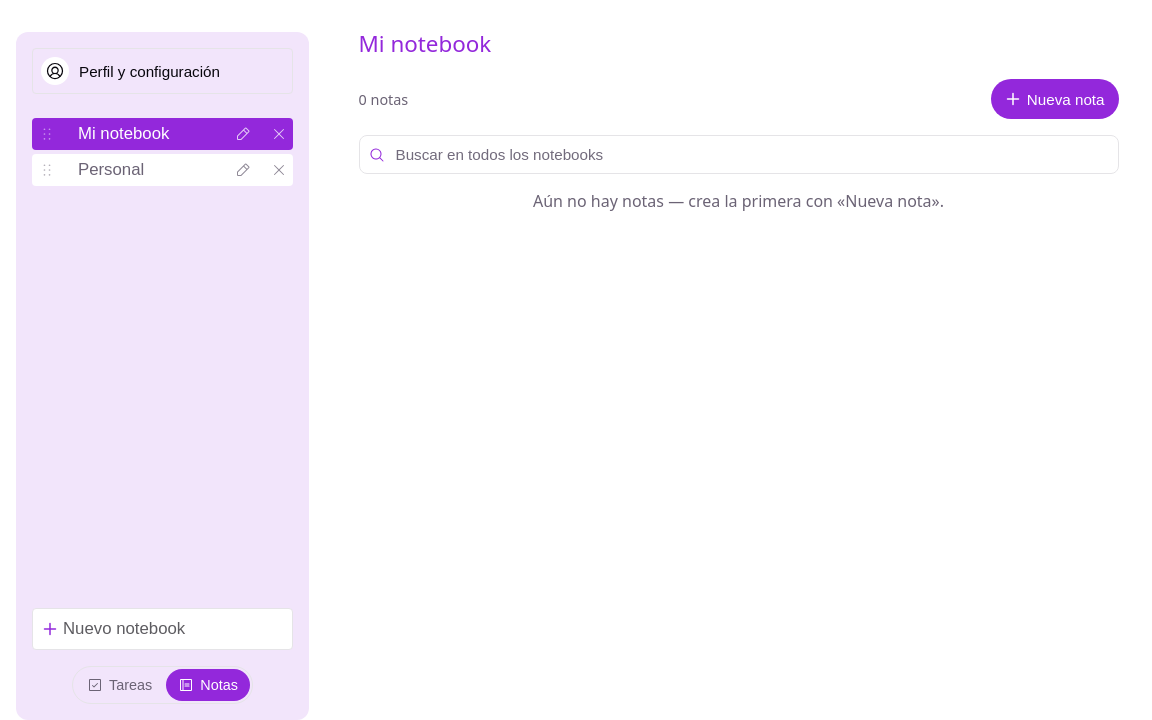
Test: Notes › finds notes from other notebooks and opens them switching notebook
Type "kioto" into the search field named "buscar notas".
click(738, 155); type("kioto")  # box [358,135,1118,174]
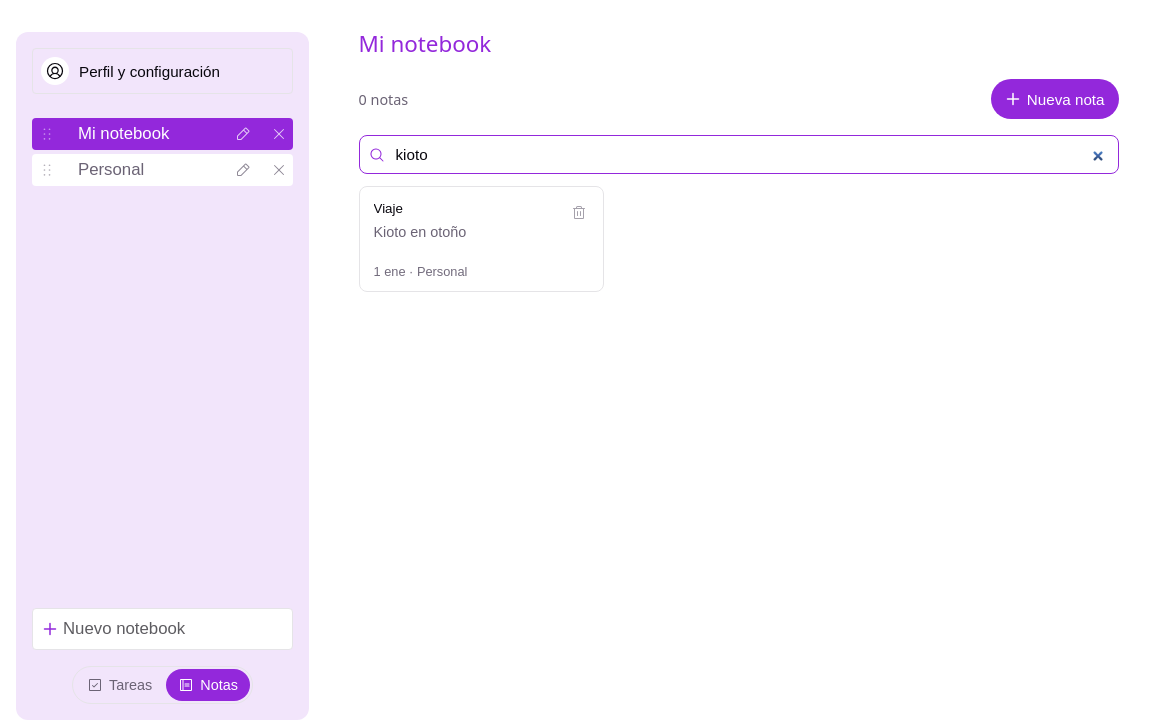
Now the text "Viaje" is shown
Now the text "1 ene · Personal" is shown, box [374,264,467,279]
Click the text "Viaje".
click(388, 209)  # box [374,201,403,216]
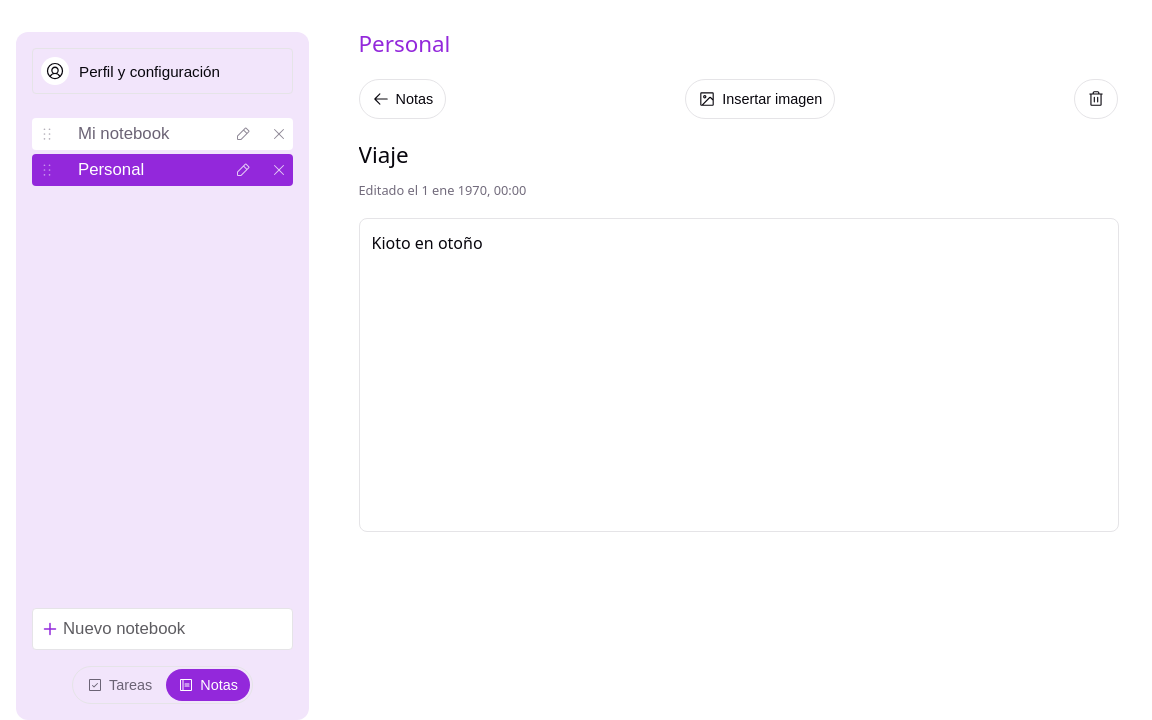
Now the field named "Título de la nota" holds "Viaje", box [358,135,1118,175]
Now the heading "Personal" is shown, box [358,32,450,55]
